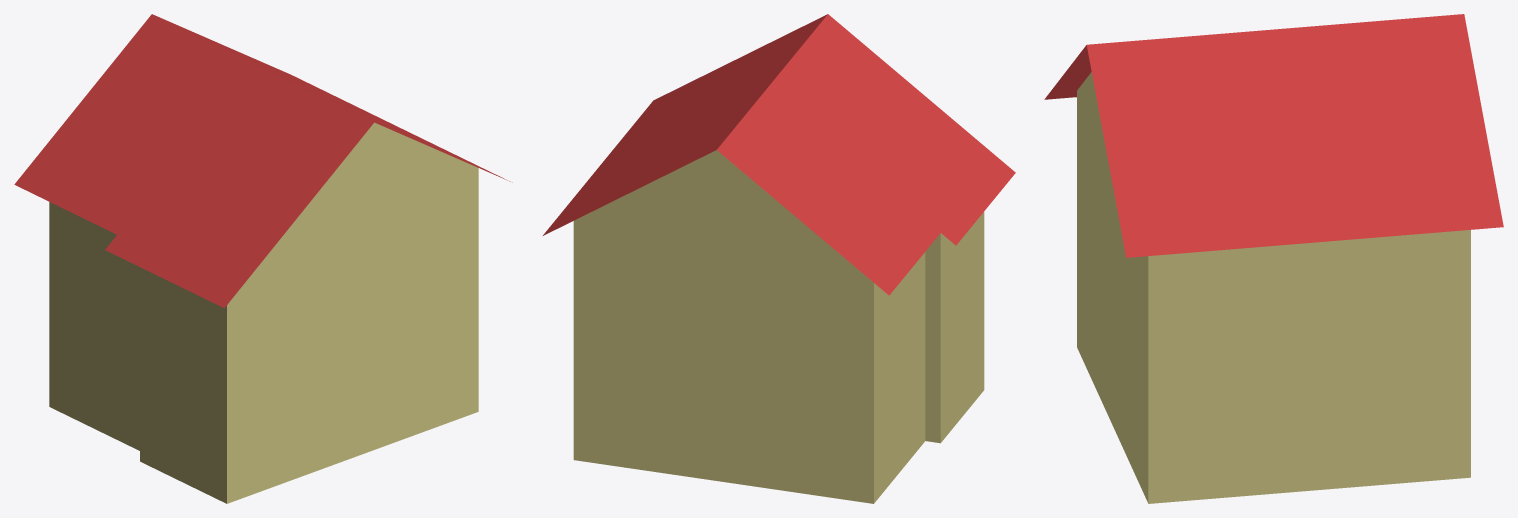
3 renders of one model, left to right at view 1: azimuth 30°, elevation 25°; view 2: azimuth 150°, elevation 25°; view 3: azimuth 270°, elevation 25°, orthographic. The views are drawn at different scales.
Parts seen in each view (by area): view 1: group_5, group_3, group_4; view 2: group_5, group_3, group_4; view 3: group_5, group_3, group_4.
Part boxes in pixels (bbox=[...]): group_5: bbox=[49, 122, 478, 503]; group_3: bbox=[49, 14, 475, 307]; group_4: bbox=[14, 15, 512, 307]; group_5: bbox=[573, 150, 984, 503]; group_3: bbox=[543, 14, 1015, 265]; group_4: bbox=[543, 14, 1015, 295]; group_5: bbox=[1077, 72, 1470, 503]; group_3: bbox=[1044, 14, 1503, 257]; group_4: bbox=[1047, 14, 1501, 257].
Bounding box in the file's own units: 12.84 × 12.29 × 11.4.
